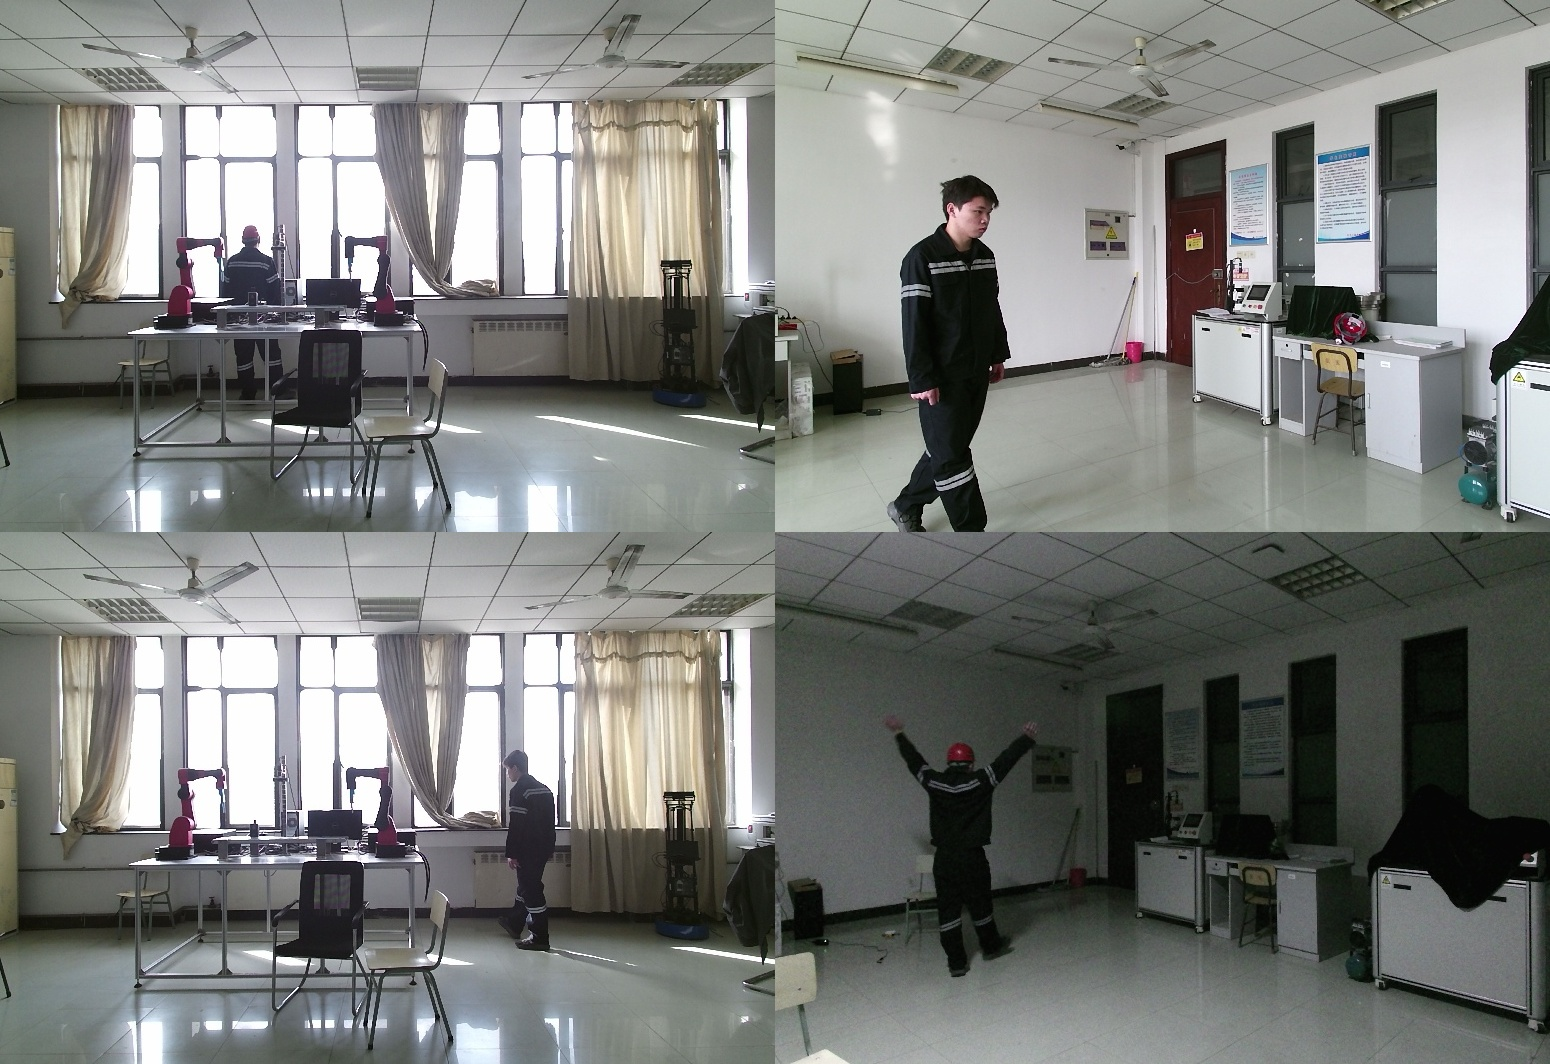person: (885, 175, 1016, 532), (872, 720, 1046, 980), (497, 748, 563, 955), (219, 226, 293, 409)
